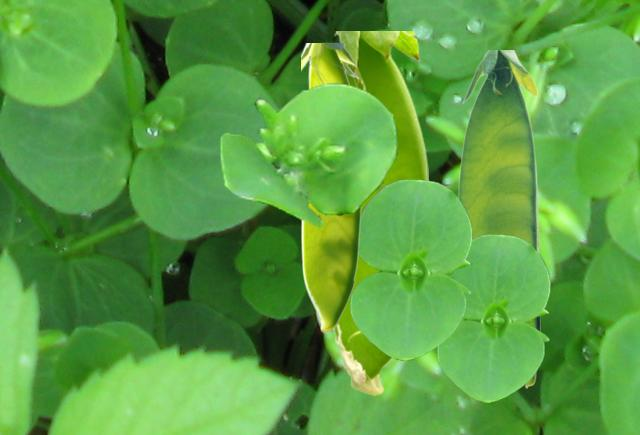pea: (333, 31, 427, 394), (457, 50, 539, 387), (301, 43, 361, 332)
